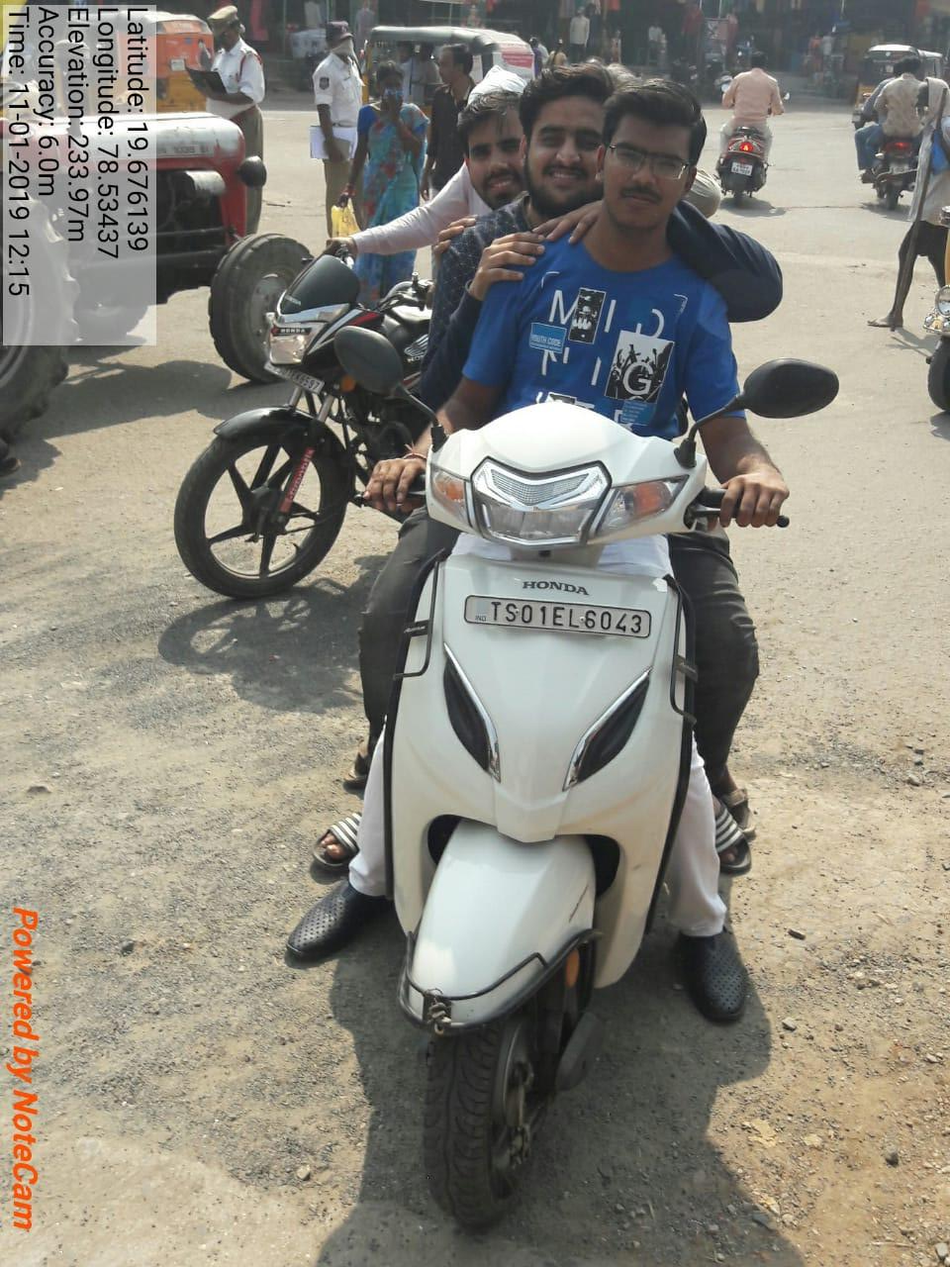plate: (461, 592, 647, 638)
